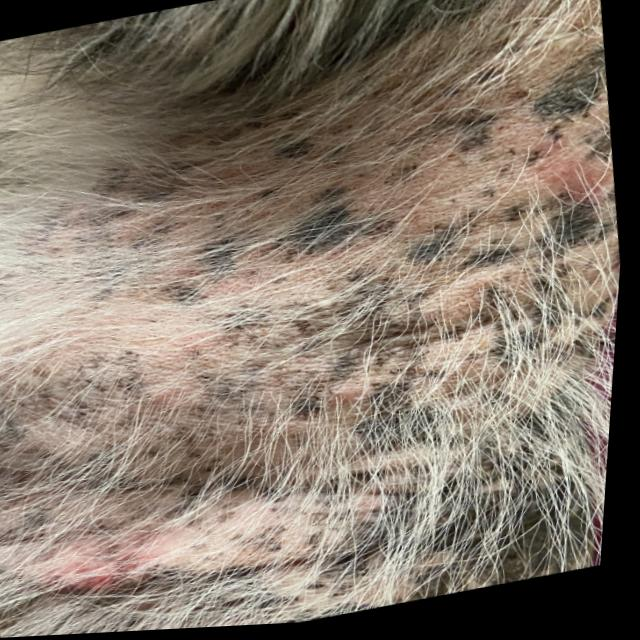demodicosis: (202, 63, 607, 473)
